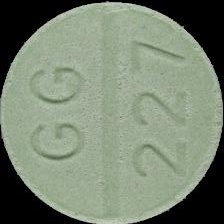0615-7903: (0, 0, 224, 224)
